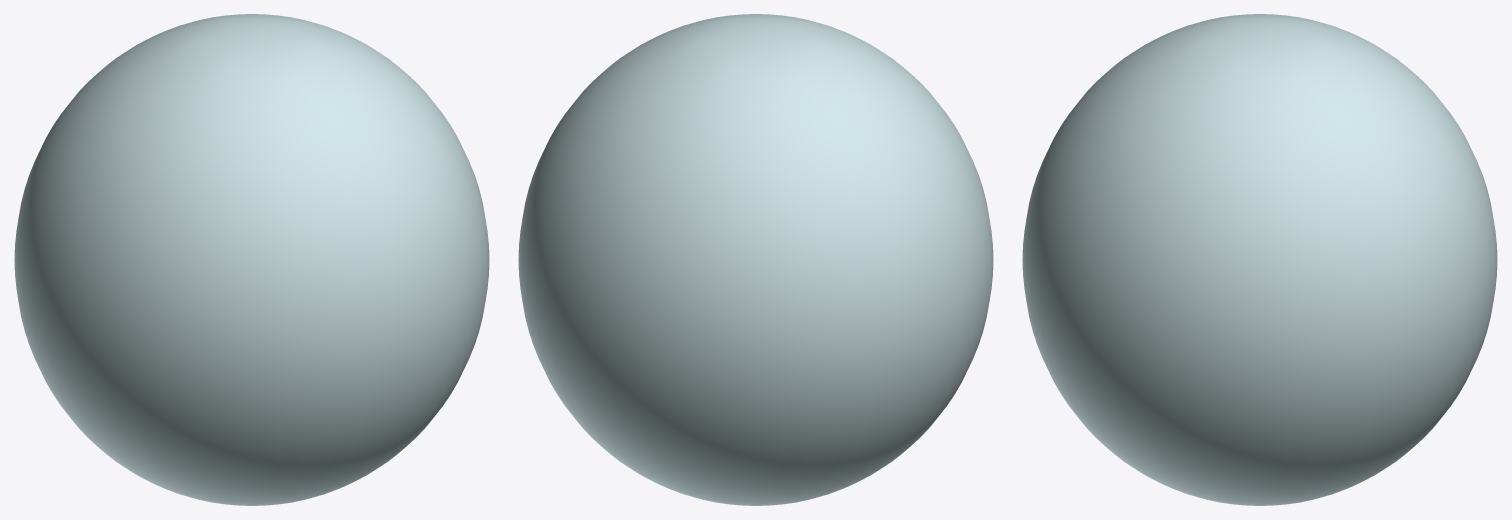
The model's file is Orb.glb.
3 renders of one model, left to right at view 1: azimuth 30°, elevation 25°; view 2: azimuth 150°, elevation 25°; view 3: azimuth 270°, elevation 25°, orthographic.
Parts seen in each view (by area): view 1: orb; view 2: orb; view 3: orb.
Part boxes in pixels (left/top/right/bottom): orb: left=14, top=14, right=489, bottom=505; orb: left=518, top=14, right=993, bottom=505; orb: left=1022, top=14, right=1497, bottom=505.
Bounding box in the file's own units: 2.04 × 2.12 × 2.04.
